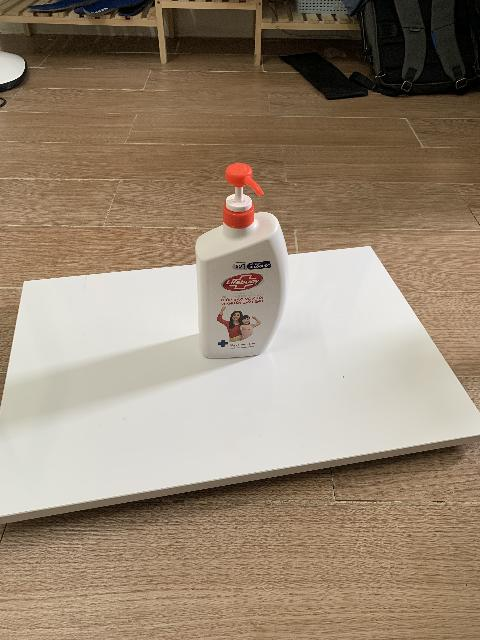life-buoy: (195, 213, 288, 365)
